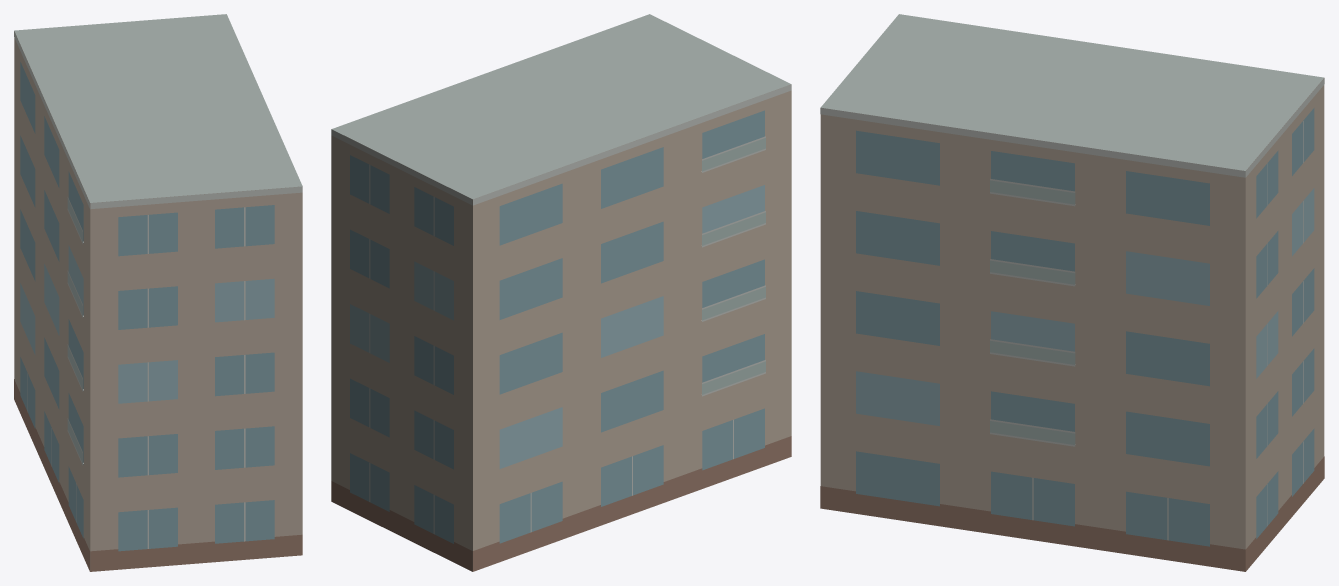
File: survey-upis-32854279.glb
3 views of the same model, side by side, from view 1: azimuth 30°, elevation 25°; view 2: azimuth 150°, elevation 25°; view 3: azimuth 270°, elevation 25° (orthographic). The views are drawn at different scales.
Parts seen in each view (by area): view 1: survey-upis-32854279.tmp; view 2: survey-upis-32854279.tmp; view 3: survey-upis-32854279.tmp.
Boxes of the visible parts, x1,y1,x2,y2 form: survey-upis-32854279.tmp: (14,14,302,571); survey-upis-32854279.tmp: (331,14,791,571); survey-upis-32854279.tmp: (820,14,1324,571).
Size of the model in its own units: 12.19 by 14.5 by 16.53.
